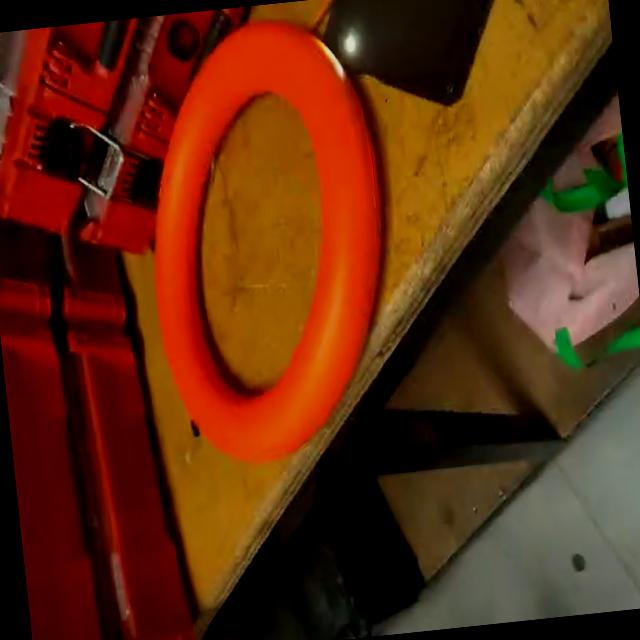note: (126, 9, 415, 474)
